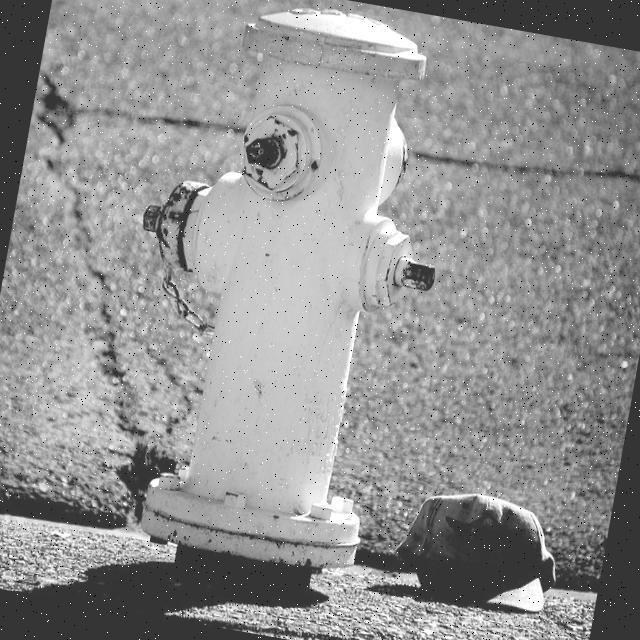fire_hydrant: (84, 0, 476, 613)
